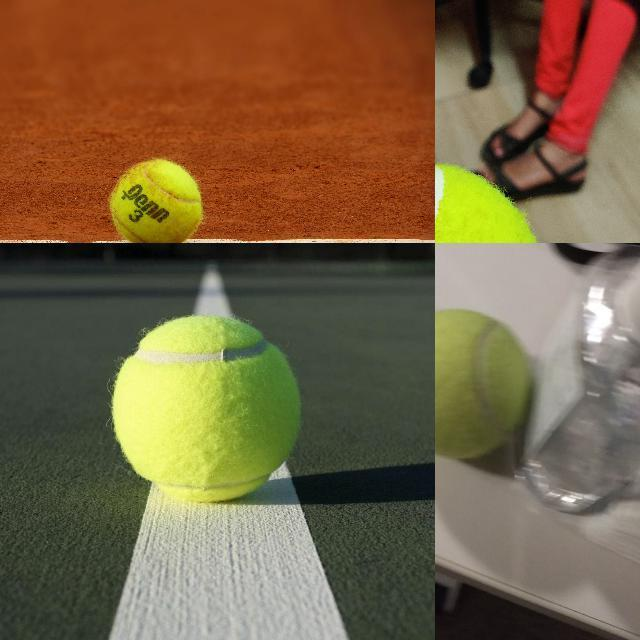tennis-ball: (111, 316, 301, 499), (435, 307, 531, 460), (109, 159, 201, 242)
